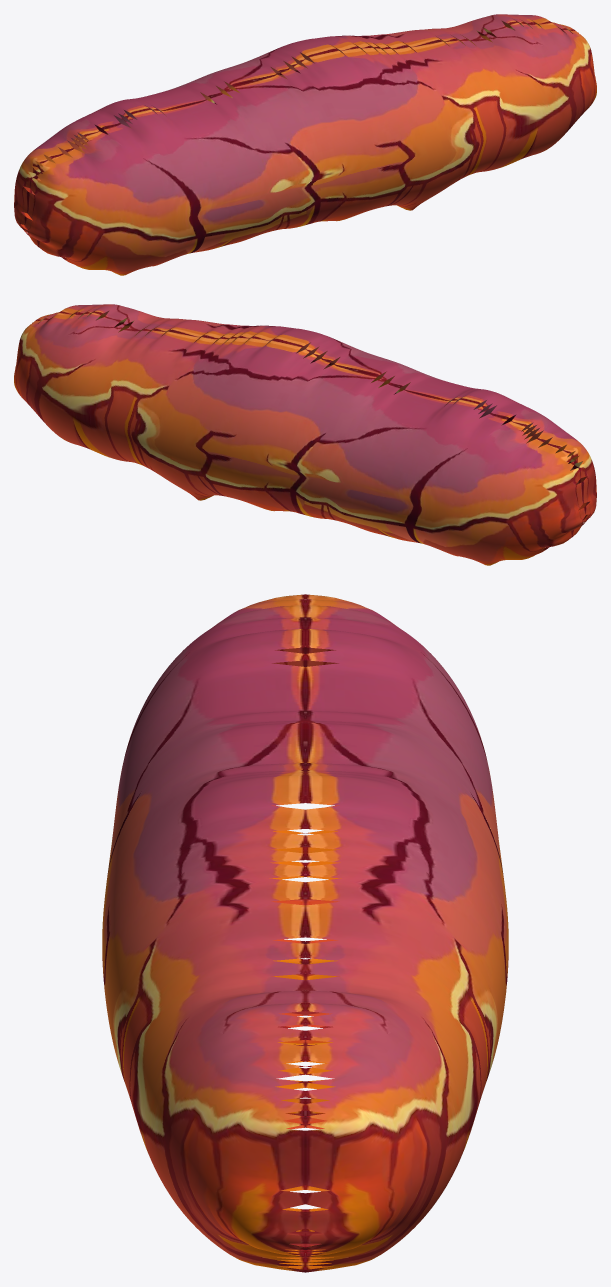
The model's file is basalt_shelf.glb.
3 renders of one model, top to bottom at view 1: azimuth 30°, elevation 25°; view 2: azimuth 150°, elevation 25°; view 3: azimuth 270°, elevation 25°, orthographic. The views are drawn at different scales.
Visible parts, largest first — view 1: basalt_shelf; view 2: basalt_shelf; view 3: basalt_shelf.
Part boxes in pixels (<box>): basalt_shelf: <box>14,14,596,275</box>; basalt_shelf: <box>14,304,596,565</box>; basalt_shelf: <box>102,594,508,1272</box>.
Bounding box in the file's own units: 0.9881 × 0.2626 × 0.3074.
1 material, 1 textured.
